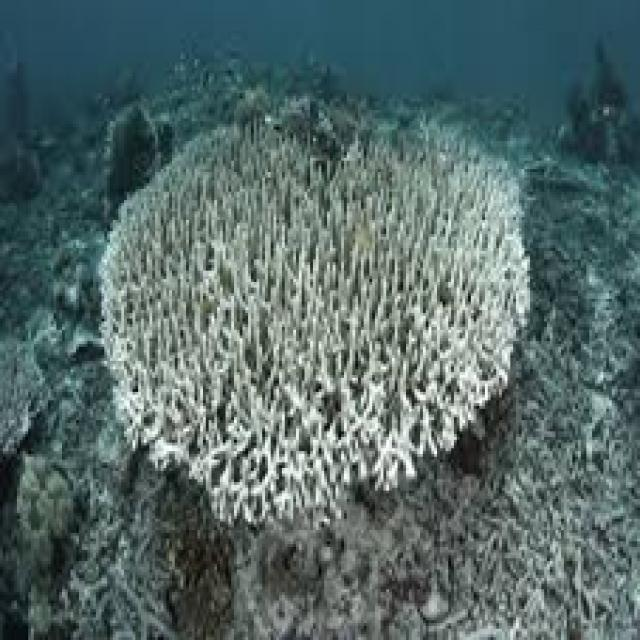Bleached: (100, 117, 528, 520)
